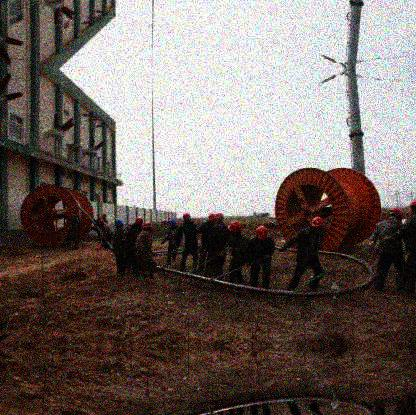helmet: (386, 205, 404, 221), (230, 219, 242, 239), (312, 215, 324, 234), (181, 211, 192, 226), (407, 198, 416, 214)
